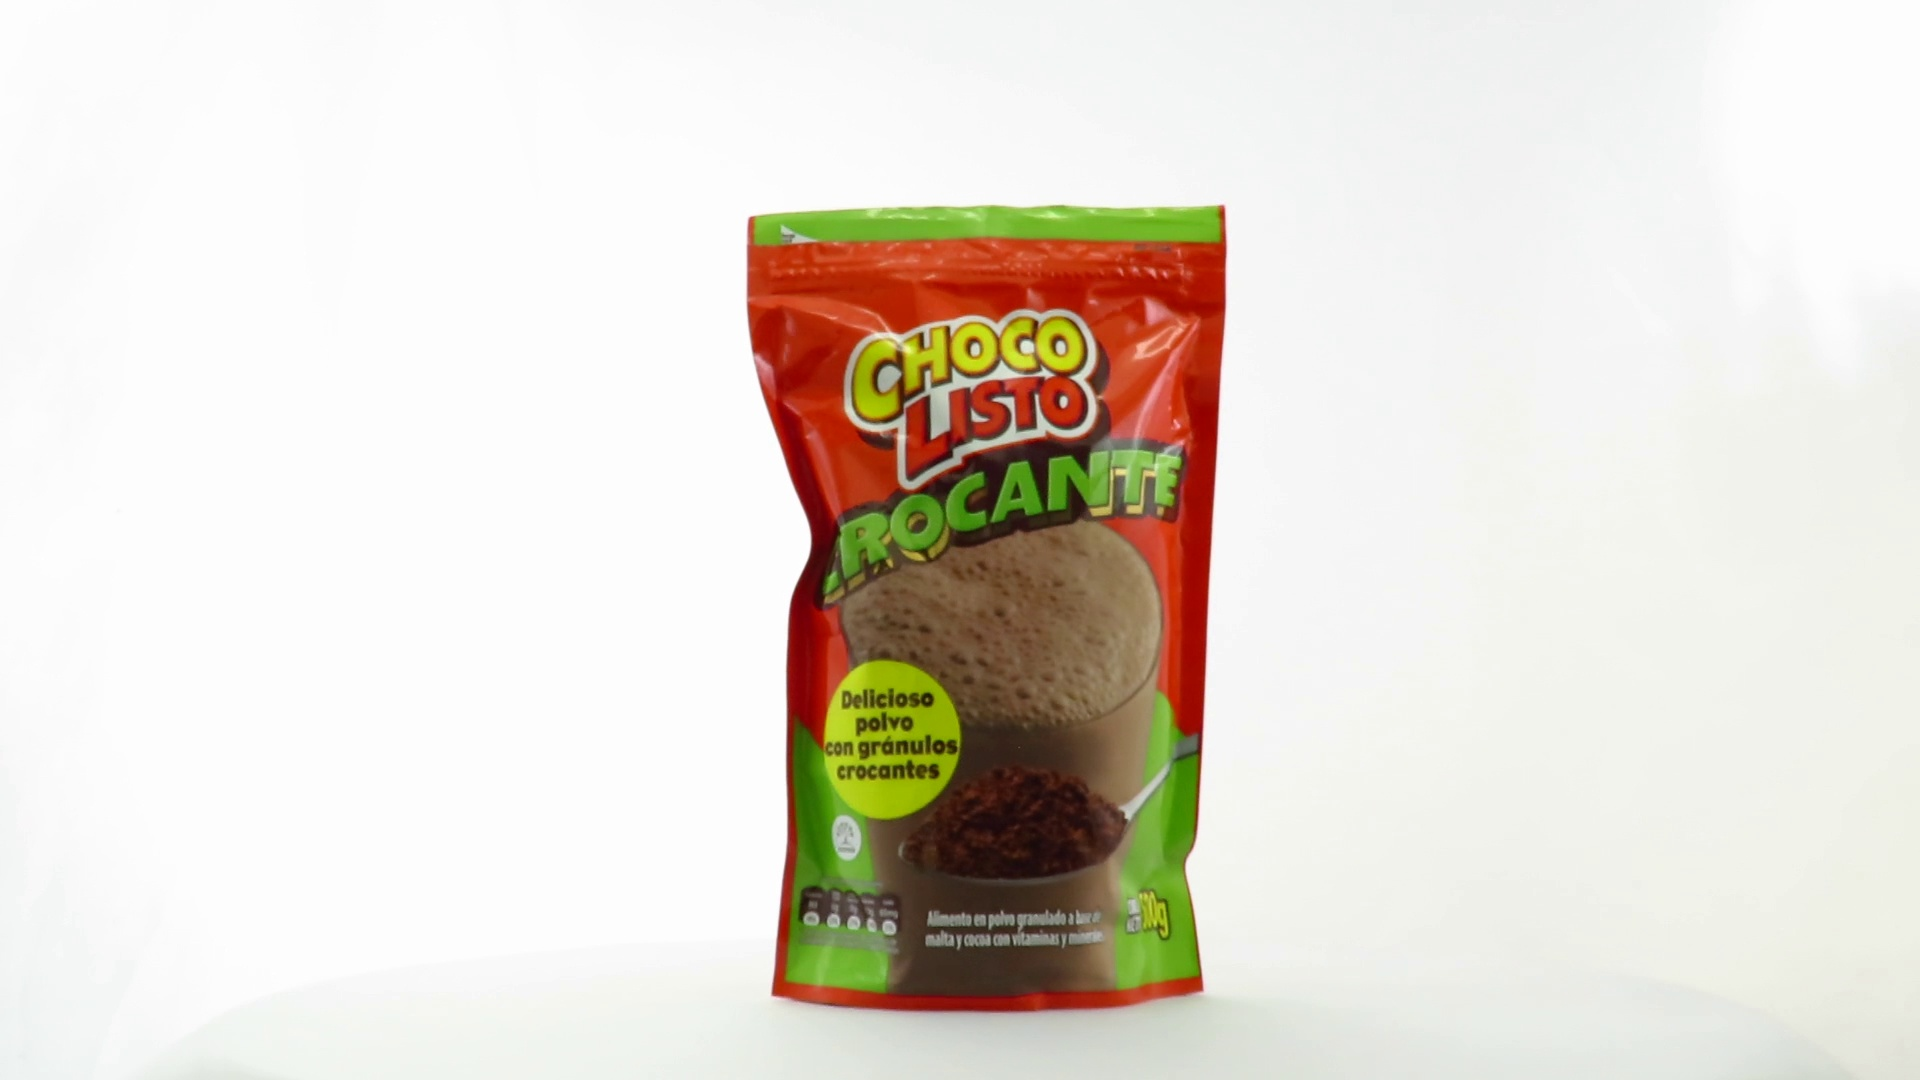COL0170102DYP50000: (741, 200, 1233, 1019)
